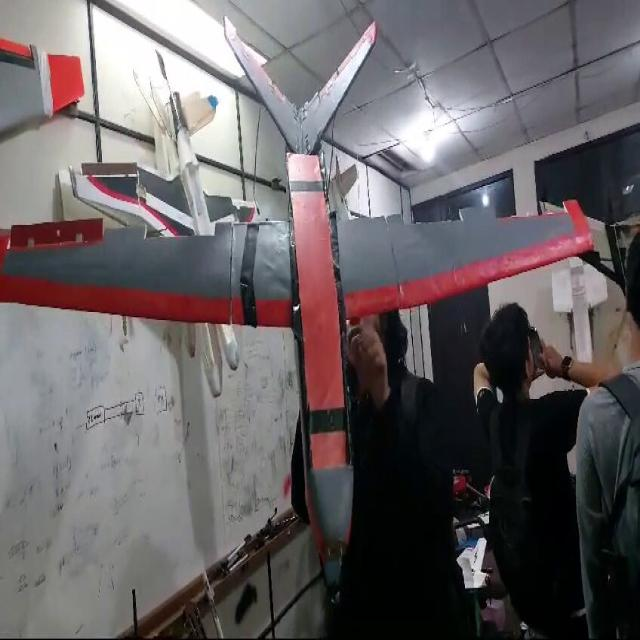plane: (0, 13, 595, 602)
